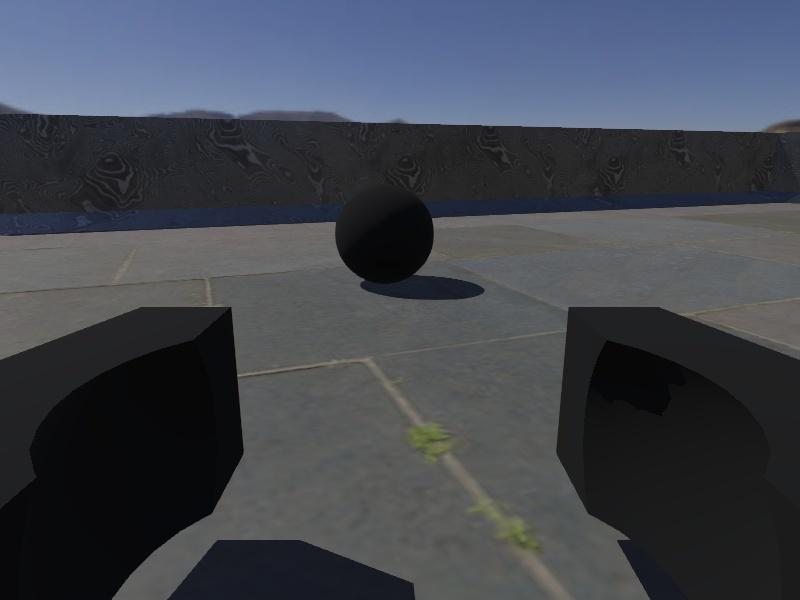black ball: (335, 182, 435, 283)
